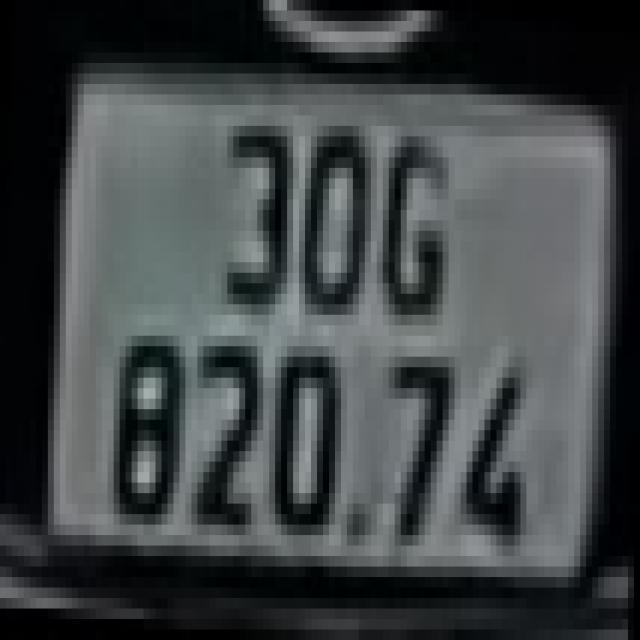0: (299, 126, 371, 315), (269, 346, 341, 535)
2: (192, 336, 264, 524)
3: (221, 116, 293, 304)
4: (460, 356, 532, 556)
7: (382, 357, 454, 546)
8: (108, 325, 186, 525)
G: (382, 126, 454, 315)
